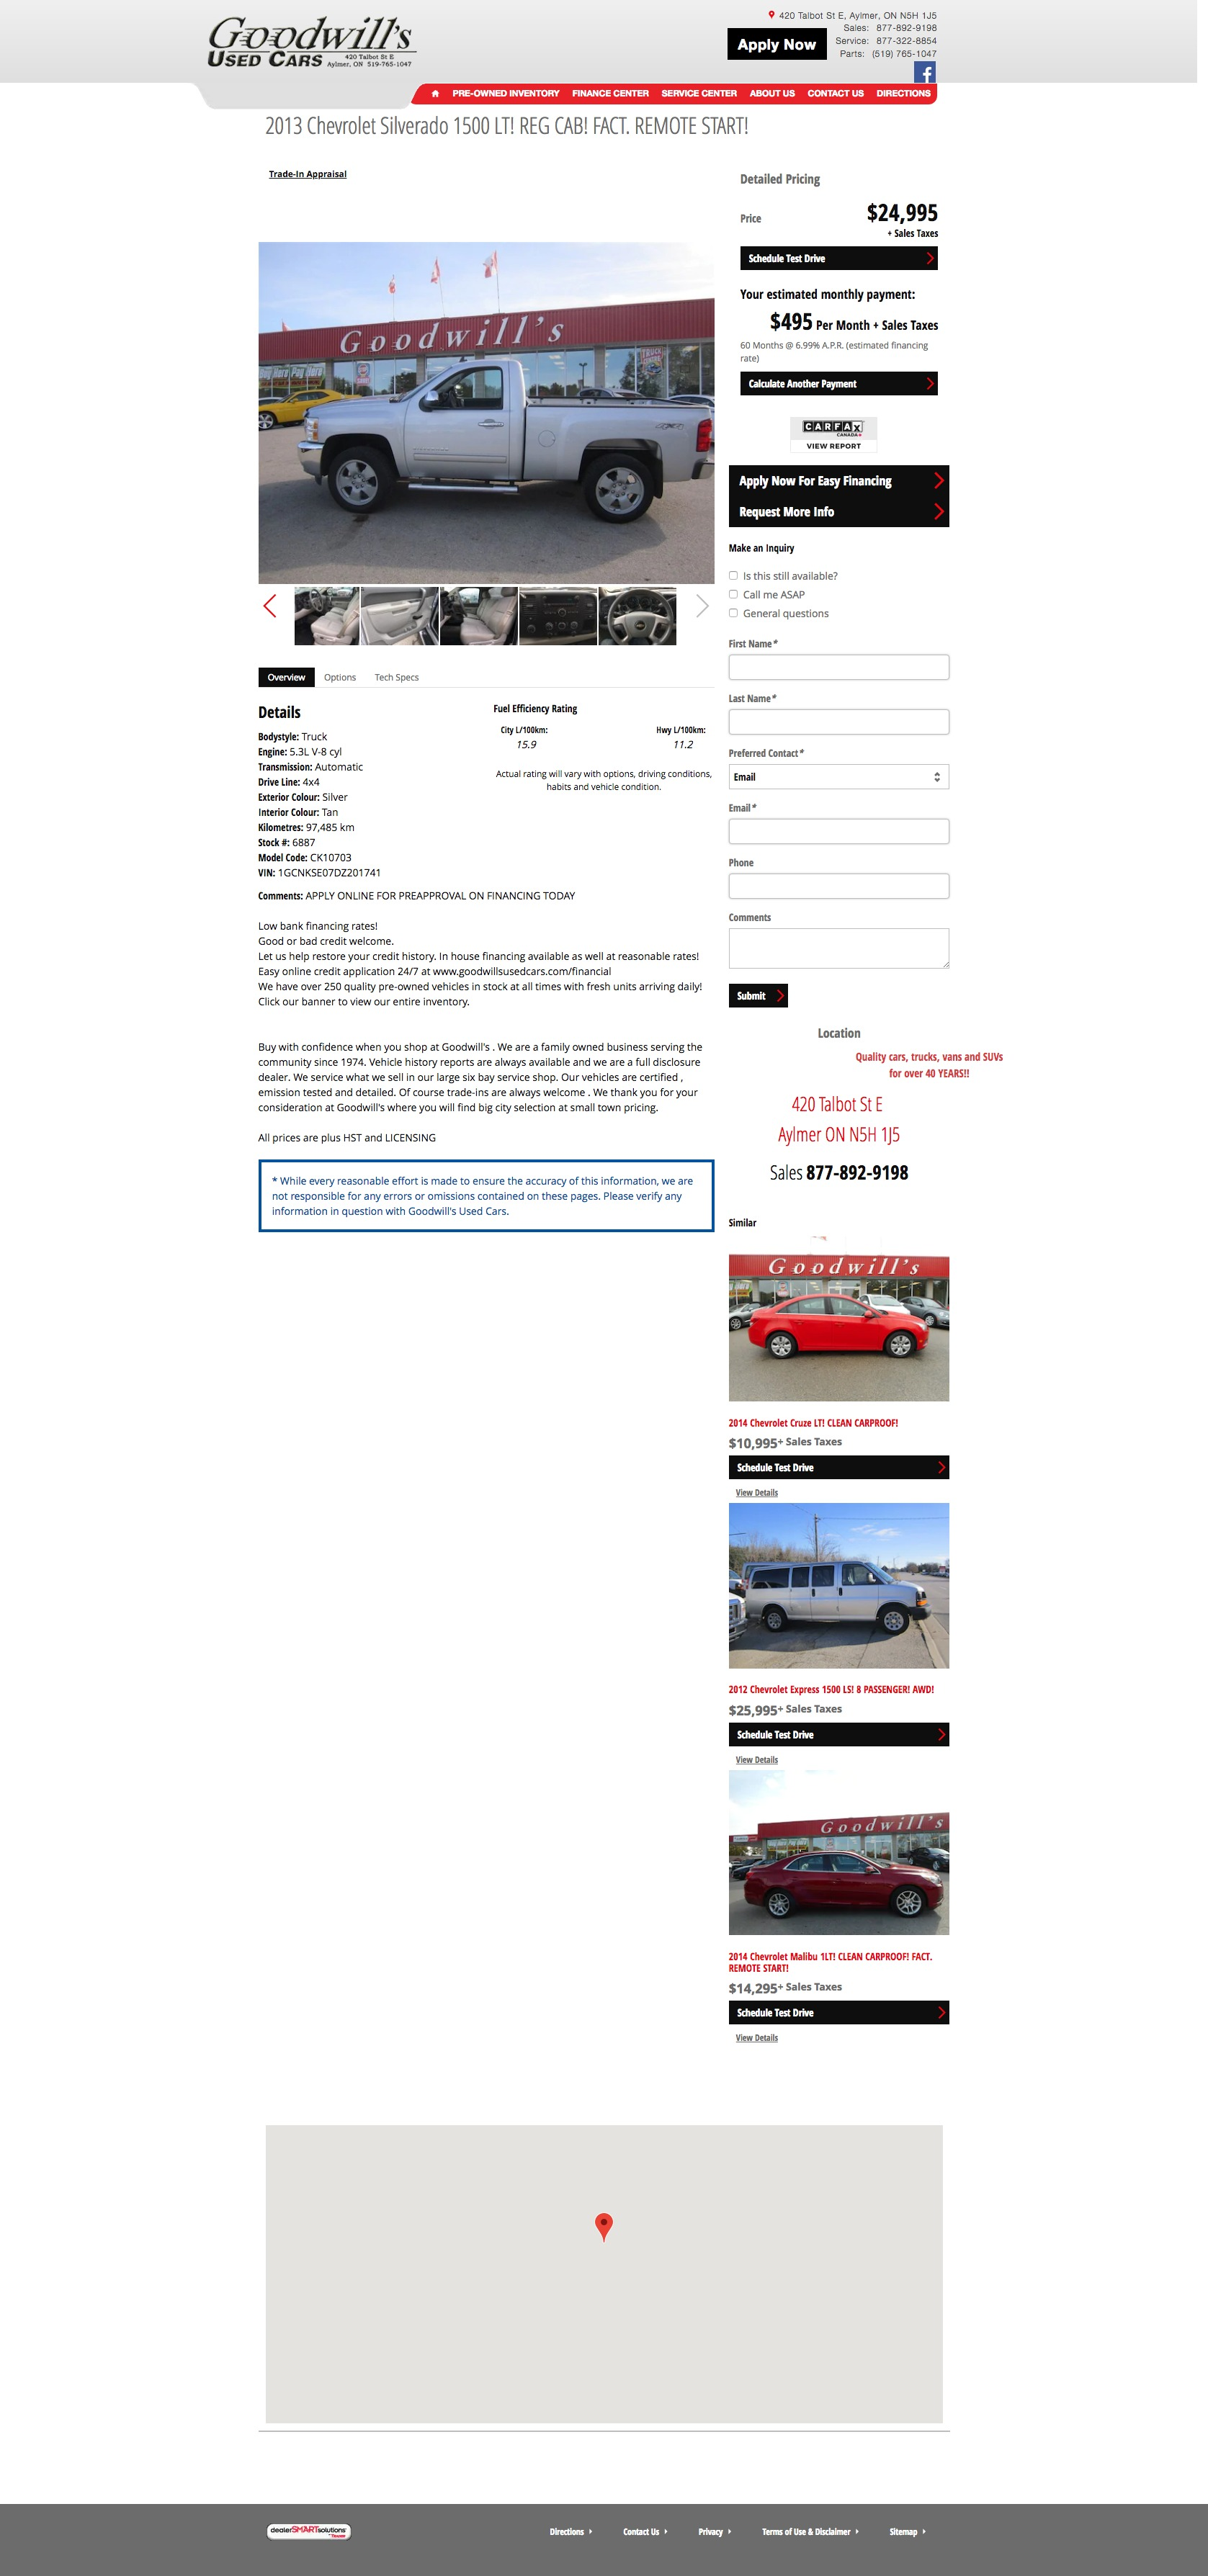car: (695, 595, 710, 619)
